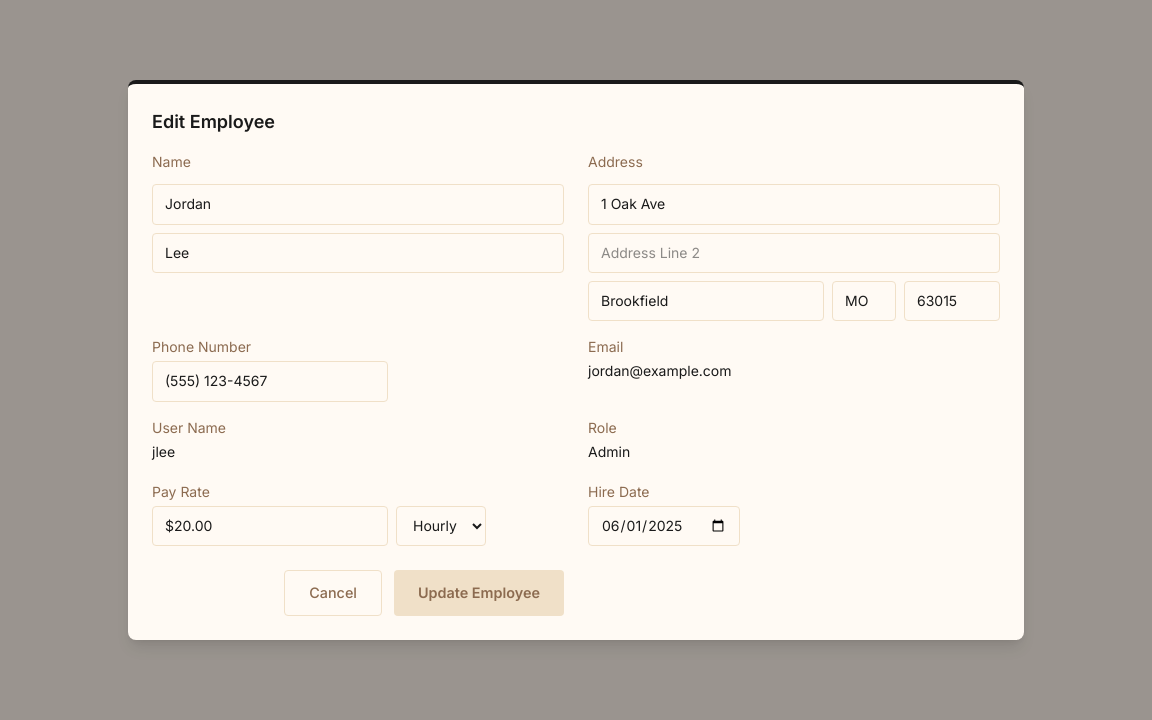
Test case: EmployeeModal - editing an existing employee › shows an error message if the update fails
Check: the text "jordan@example.com" is shown, box [588, 362, 732, 379]
Replace the text in the 4th field named "city" with "Fenton" at [706, 301], box [588, 281, 824, 321]
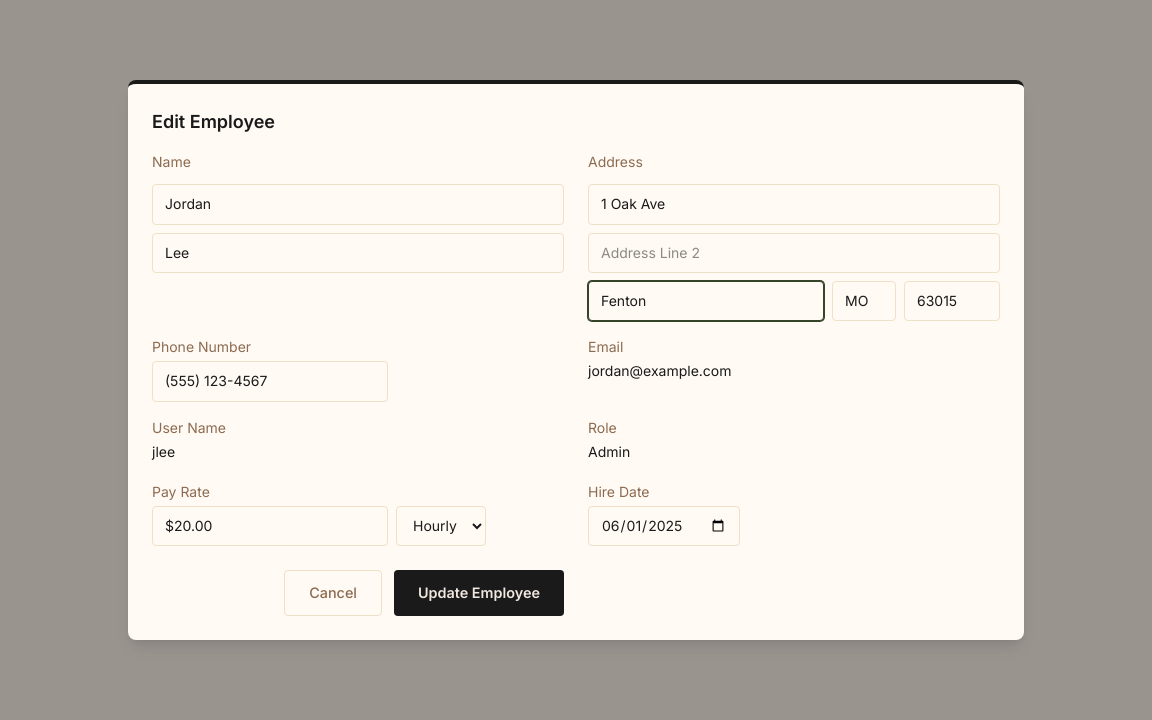
Click the button "Update Employee" at [479, 593], box [394, 570, 564, 616]
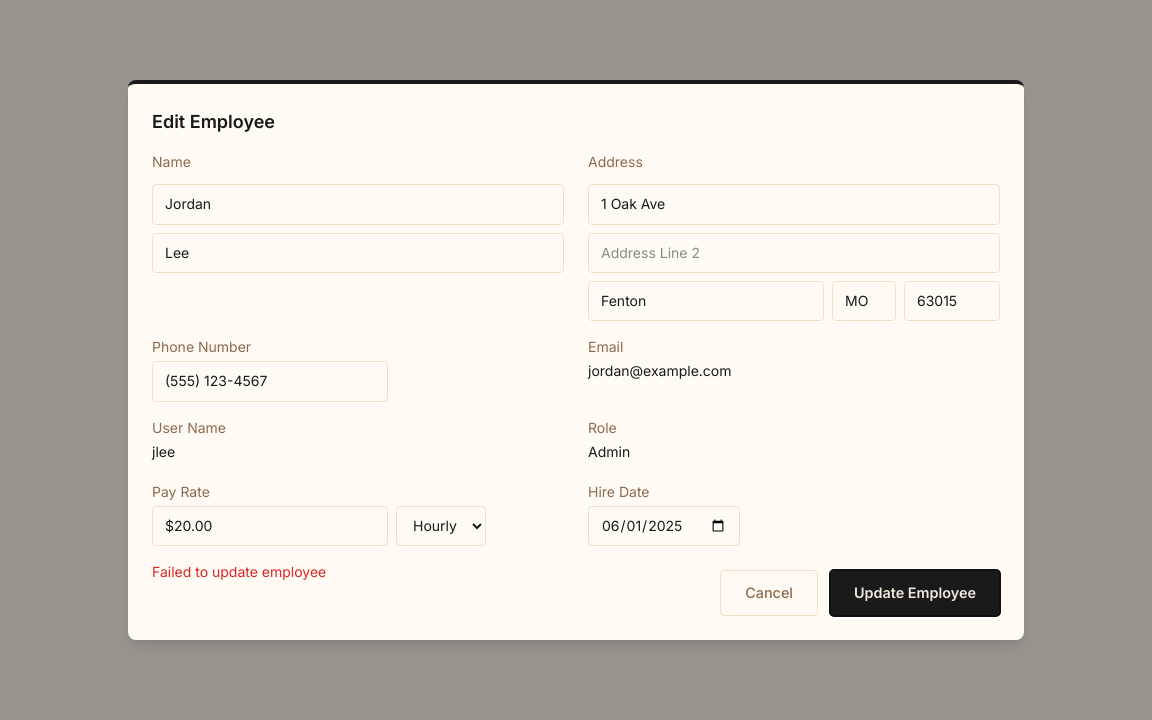
Check: the text "Failed to update employee" is shown, box [152, 563, 326, 580]
